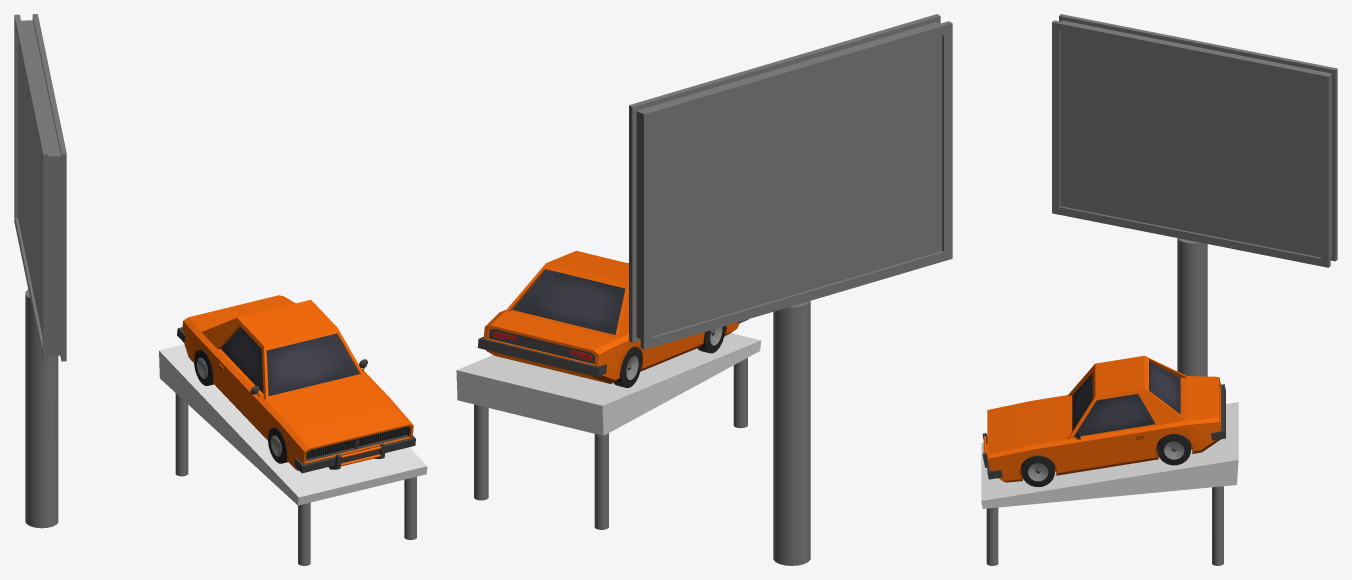
The model's file is Engel 2.FBX.
3 renders of one model, left to right at view 1: azimuth 30°, elevation 25°; view 2: azimuth 150°, elevation 25°; view 3: azimuth 270°, elevation 25°, orthographic. The views are drawn at different scales.
Parts seen in each view (by area): view 1: Car2_Body, Box001, Box002, Cylinder005, Cerceve, Cylinder004, Cylinder002, Cylinder001, Car2_RF, Car2_RR; view 2: Box002, Cerceve, Car2_Body, Box001, Cylinder005, Cylinder004, Cylinder003, Cylinder002, Car2_RR; view 3: Box002, Car2_Body, Cerceve, Box001, Cylinder005, Cylinder003, Car2_LR, Car2_LF, Cylinder001.
Boxes of the visible parts, x1=… form: Car2_Body: x1=177, y1=295, x2=415, y2=473; Box001: x1=159, y1=344, x2=427, y2=505; Box002: x1=18, y1=20, x2=60, y2=355; Cylinder005: x1=25, y1=289, x2=58, y2=528; Cerceve: x1=14, y1=14, x2=66, y2=362; Cylinder004: x1=175, y1=393, x2=188, y2=476; Cylinder002: x1=298, y1=502, x2=310, y2=565; Cylinder001: x1=404, y1=476, x2=416, y2=539; Car2_RF: x1=268, y1=427, x2=287, y2=463; Car2_RR: x1=194, y1=349, x2=213, y2=385; Box002: x1=636, y1=22, x2=942, y2=339; Cerceve: x1=629, y1=14, x2=952, y2=349; Car2_Body: x1=477, y1=250, x2=748, y2=383; Box001: x1=456, y1=333, x2=760, y2=435; Cylinder005: x1=773, y1=301, x2=810, y2=565; Cylinder004: x1=594, y1=433, x2=608, y2=529; Cylinder003: x1=474, y1=404, x2=488, y2=500; Cylinder002: x1=733, y1=358, x2=747, y2=428; Car2_RR: x1=614, y1=346, x2=641, y2=387; Box002: x1=1060, y1=20, x2=1331, y2=257; Car2_Body: x1=982, y1=355, x2=1225, y2=482; Cerceve: x1=1052, y1=14, x2=1337, y2=267; Box001: x1=981, y1=402, x2=1238, y2=508; Cylinder005: x1=1177, y1=238, x2=1207, y2=376; Cylinder003: x1=1212, y1=486, x2=1223, y2=565; Car2_LR: x1=1157, y1=434, x2=1190, y2=465; Car2_LF: x1=1021, y1=455, x2=1054, y2=486; Cylinder001: x1=986, y1=507, x2=998, y2=565.
Size of the model in its own units: 235 by 287 by 231.
4 materials, 1 textured.
